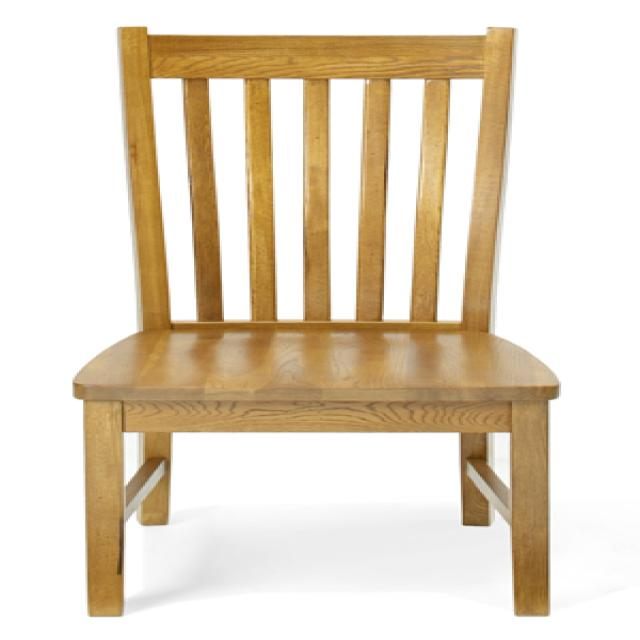chair: (73, 23, 564, 622)
